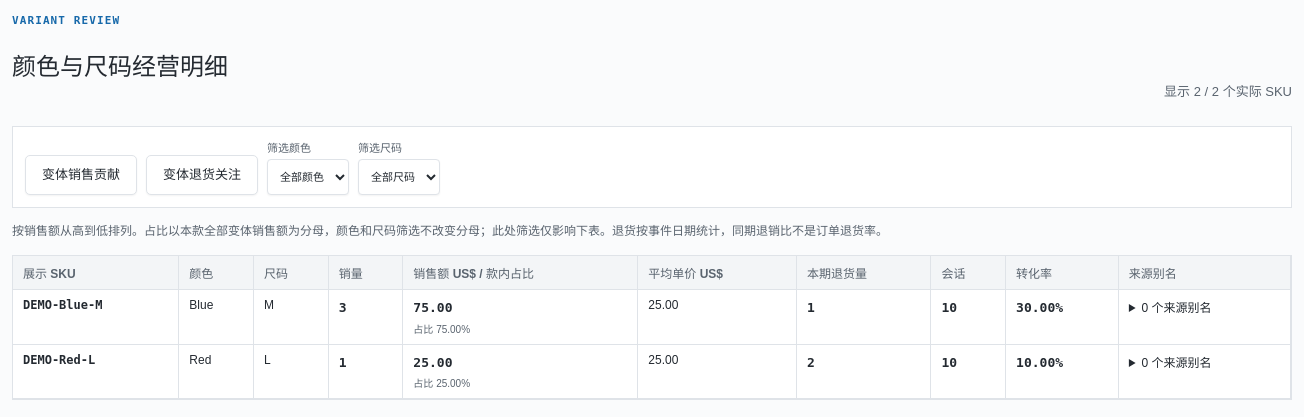
Scenario: sorts actual variants and keeps the whole-style denominator when filtering
The width and height of the screenshot is (1304, 417).
Expected: the row that starts with "DEMO-Blue-M" is shown, left=23, top=298, right=102, bottom=312
Click the button "变体退货关注": point(202, 175) left=146, top=155, right=258, bottom=195
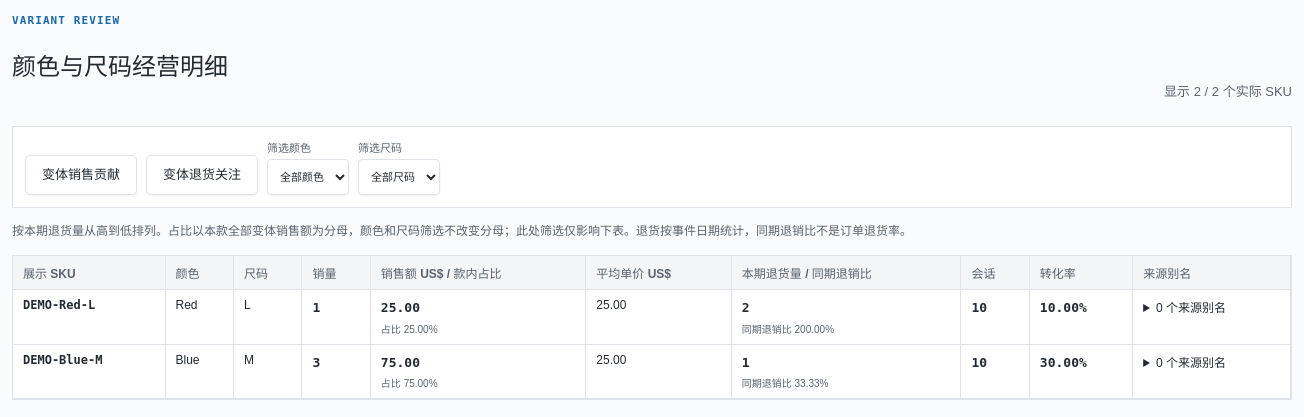
Expected: the row that starts with "DEMO-Red-L" is shown, left=23, top=298, right=95, bottom=312
Expected: the row that starts with "DEMO-Red-L" shows "200.00%", left=795, top=324, right=834, bottom=335
Select "Blue" in the dropdown labelled "筛选颜色": point(308, 177) left=267, top=159, right=349, bottom=195
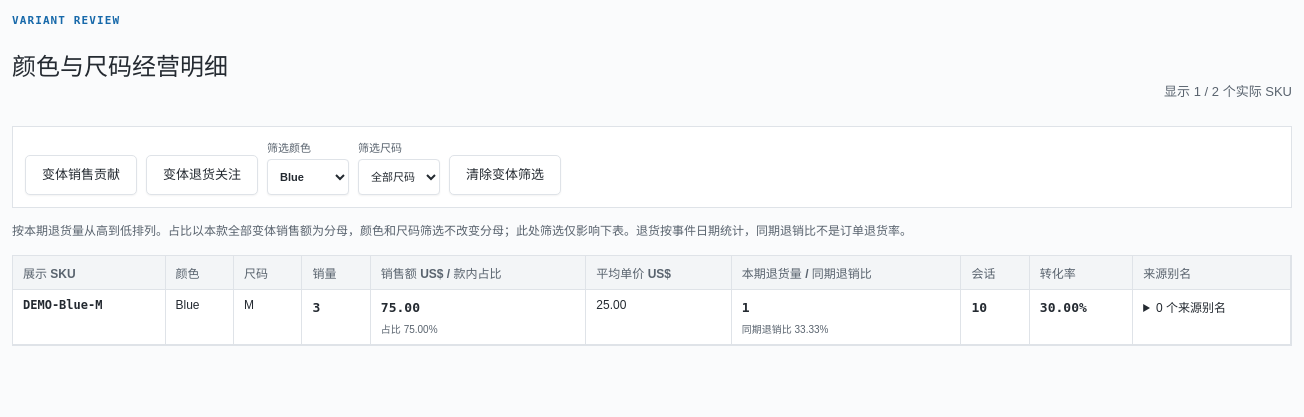
Expected: the text "占比 75.00%" is shown, left=381, top=324, right=438, bottom=335
Expected: the text "DEMO-Red-L" is gone
Select "L" in the dropdown labelled "筛选尺码": point(399, 177) left=358, top=159, right=440, bottom=195
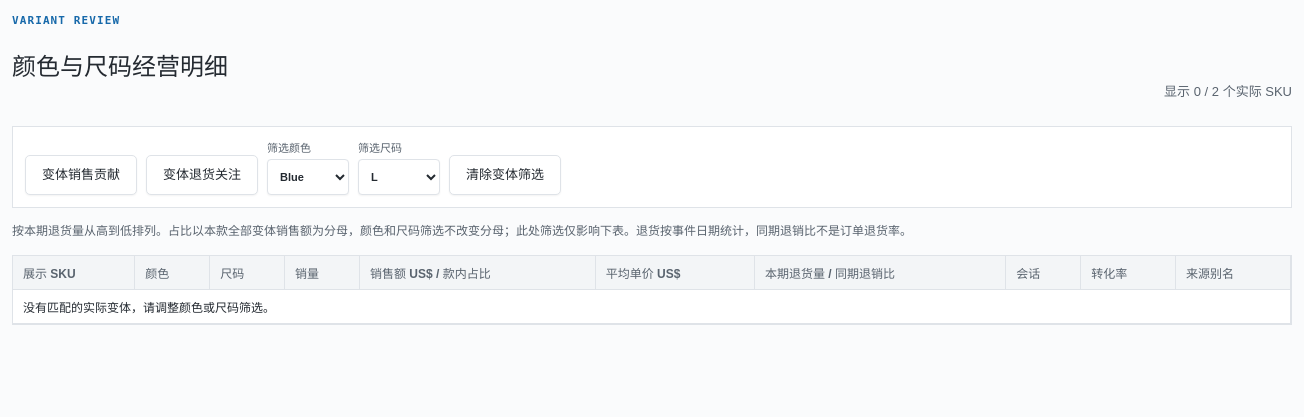
Expected: the text "没有匹配的实际变体，请调整颜色或尺码筛选。" is shown, left=13, top=290, right=1290, bottom=324
Click the button "清除变体筛选": point(505, 175) left=449, top=155, right=561, bottom=195
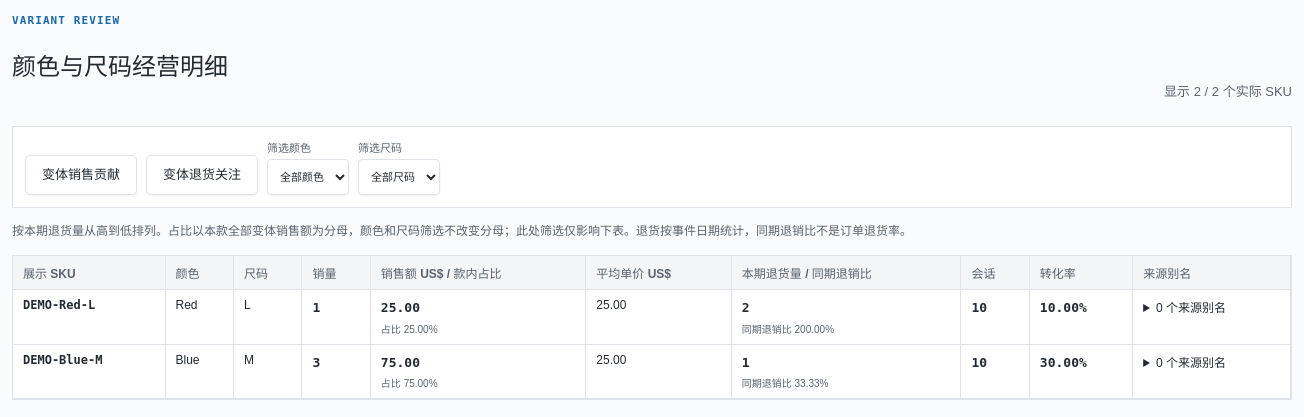
Expected: the number of rows is 3, left=13, top=256, right=1290, bottom=290; left=13, top=290, right=1290, bottom=344; left=13, top=344, right=1290, bottom=399
